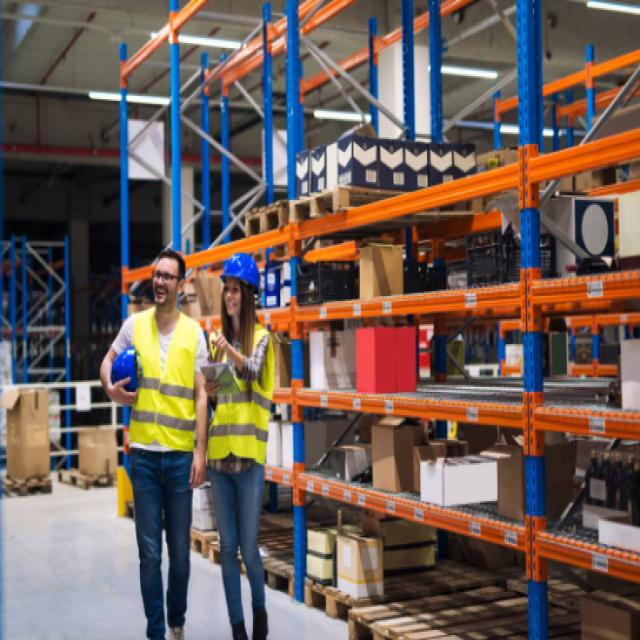hard_hat: (218, 248, 261, 323)
shoes: (222, 602, 278, 640)
vest: (119, 304, 203, 455), (198, 311, 276, 468)
